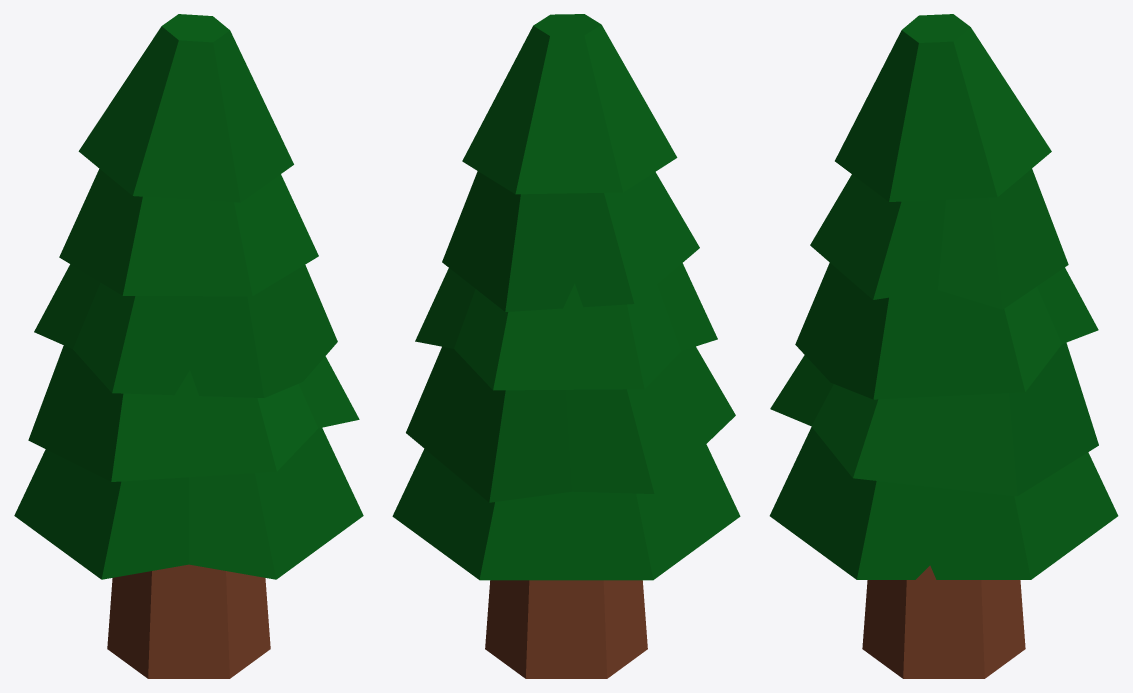
The model's file is LowTree.glb.
3 views of the same model, side by side, from view 1: azimuth 30°, elevation 25°; view 2: azimuth 150°, elevation 25°; view 3: azimuth 270°, elevation 25° (orthographic).
Visible parts, largest first — view 1: Cylinder.006; view 2: Cylinder.006; view 3: Cylinder.006.
Boxes of the visible parts, x1,y1,x2,y2 form: Cylinder.006: (14, 14, 363, 678); Cylinder.006: (392, 14, 740, 678); Cylinder.006: (769, 14, 1118, 678).
Bounding box in the file's own units: 3.7 × 8.44 × 4.28.
